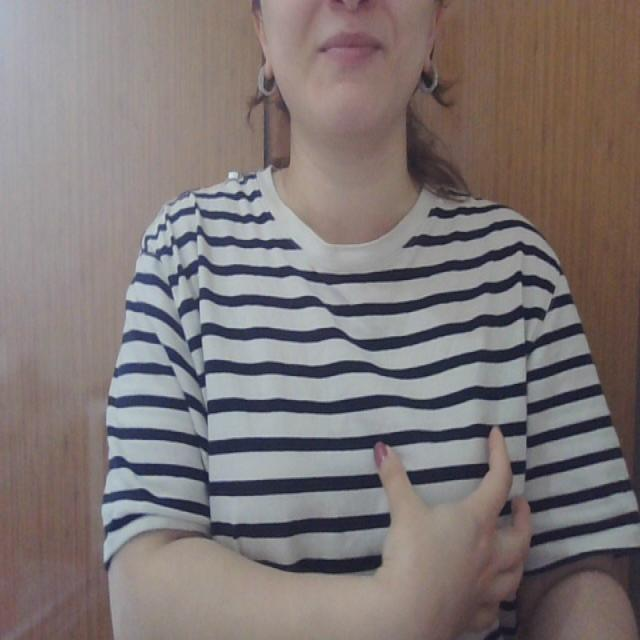Anne: (195, 403, 547, 640)
